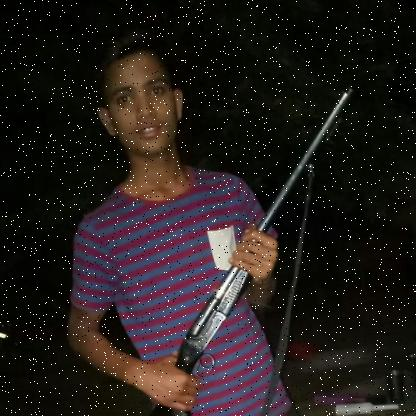rifle: (150, 83, 358, 415)
